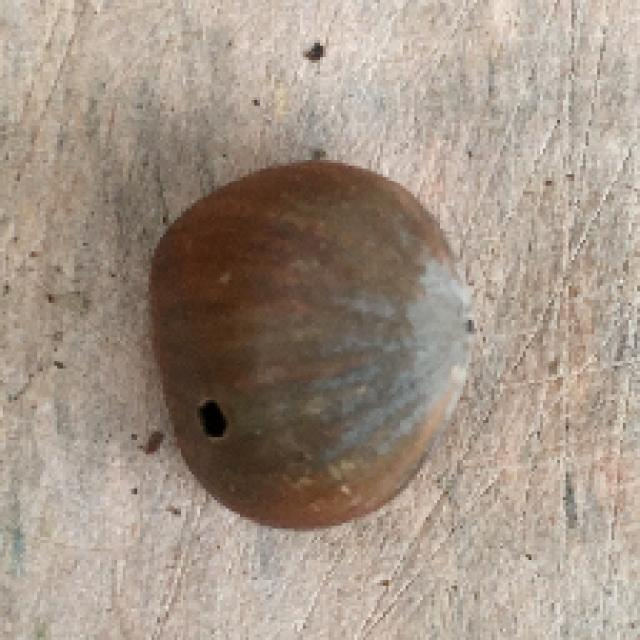damagedHazelnut: (137, 150, 476, 527)
